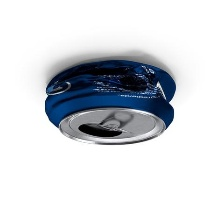can: (36, 55, 187, 150)
